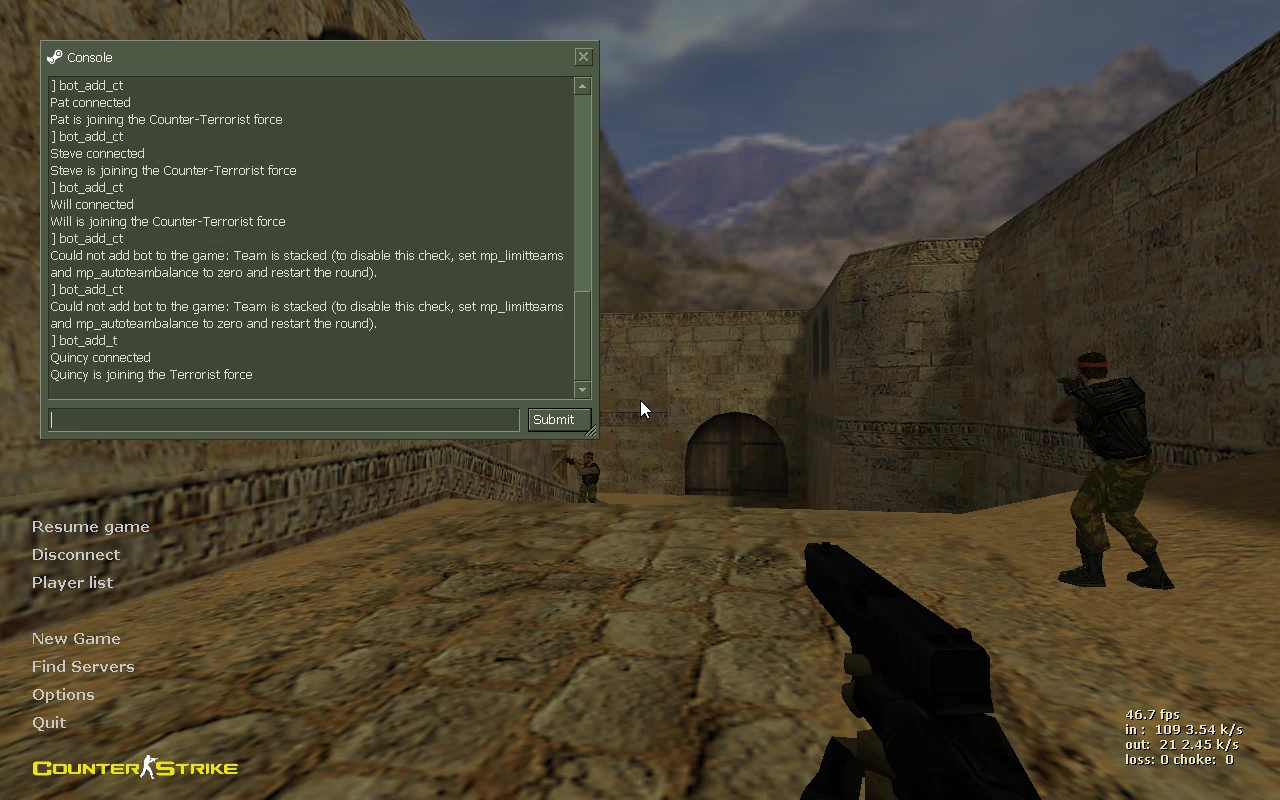terr1: (1046, 352, 1176, 595), (561, 453, 601, 507)
